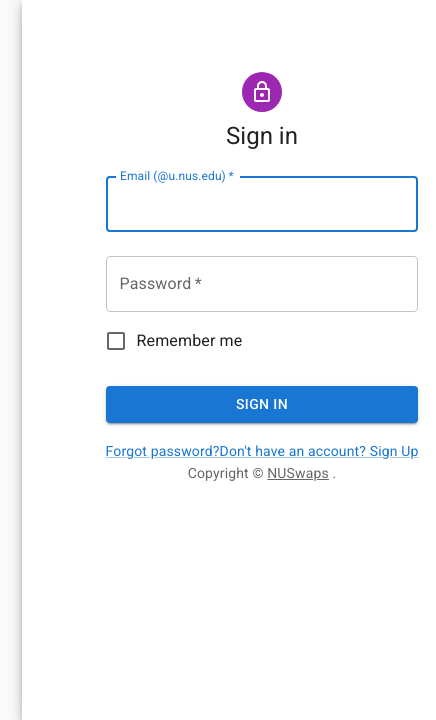
Login Page › renders error text when email domain is wrong
Type "123" into the password field labelled "Password *" at x=262, y=284, box [106, 256, 418, 312]
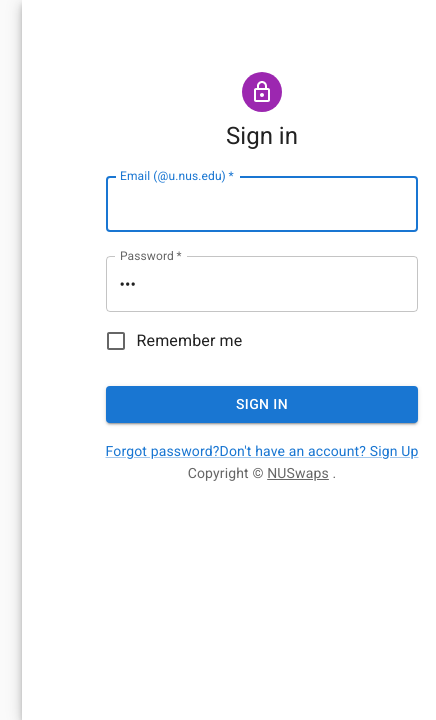
Type "test@123.com" into the field labelled "Email (@u.nus.edu) *" at x=262, y=204, box [106, 176, 418, 232]
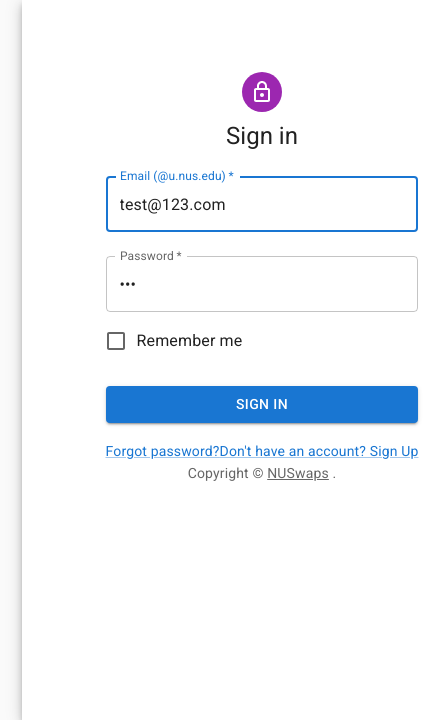
Click the button "Sign In" at x=262, y=404, box [106, 386, 418, 422]
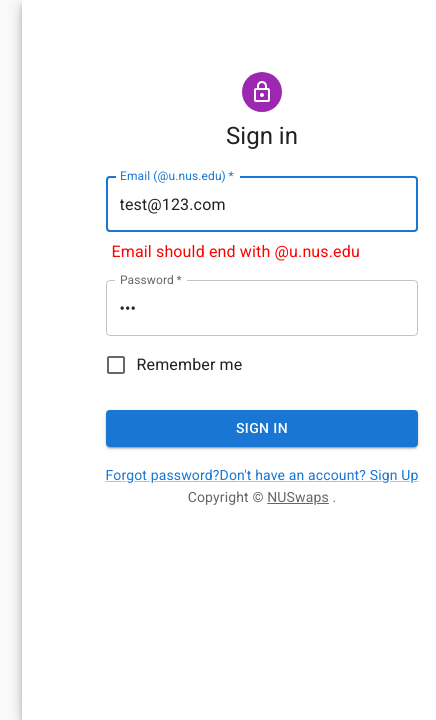
Result: the text "Email should end with @u.nus.edu" is shown at [112, 242, 360, 261]
